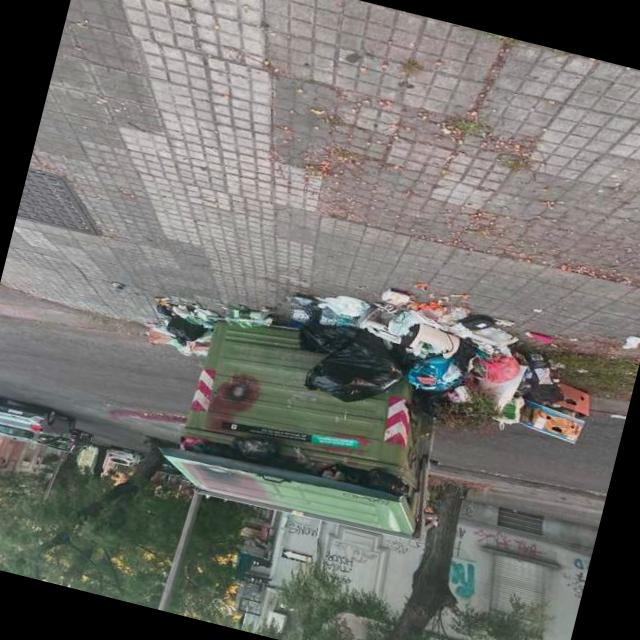high trash: (150, 289, 591, 442)
less trash: (524, 331, 553, 345), (623, 335, 640, 348)
